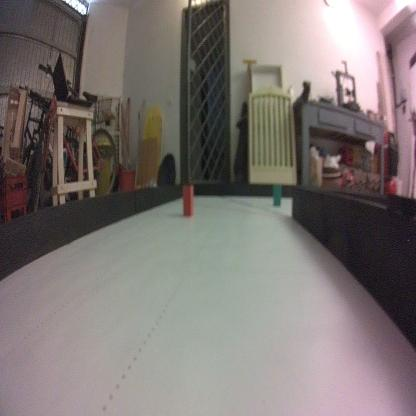green: (271, 182, 282, 207)
red: (181, 180, 193, 217)
